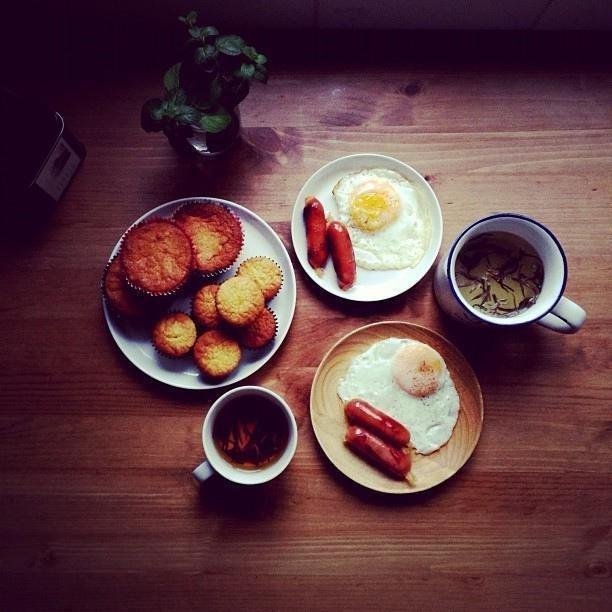cup-handle: (434, 214, 586, 336), (194, 386, 299, 486)
